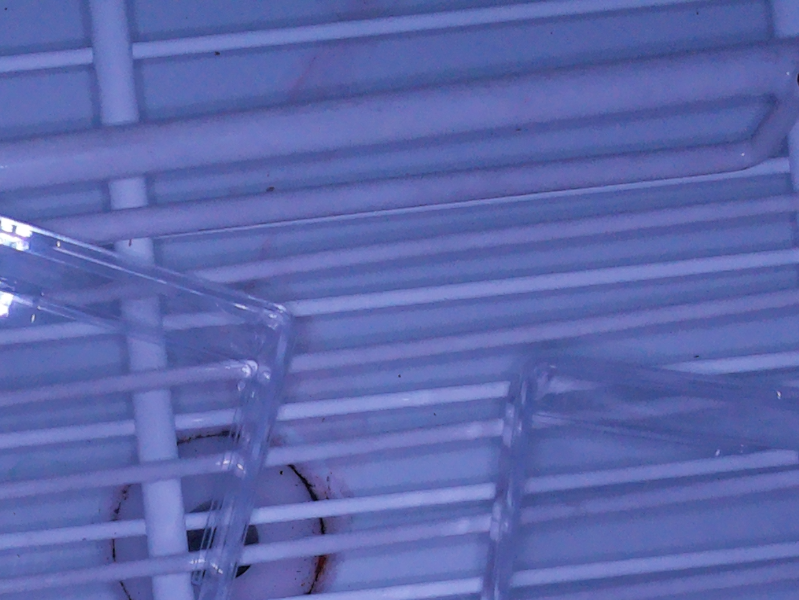plate: (1, 214, 300, 600), (478, 347, 799, 600)
